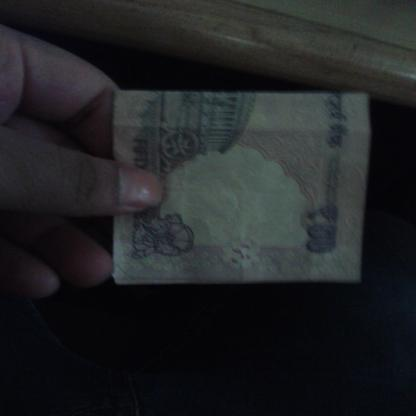Old50Back: (112, 92, 370, 286)
